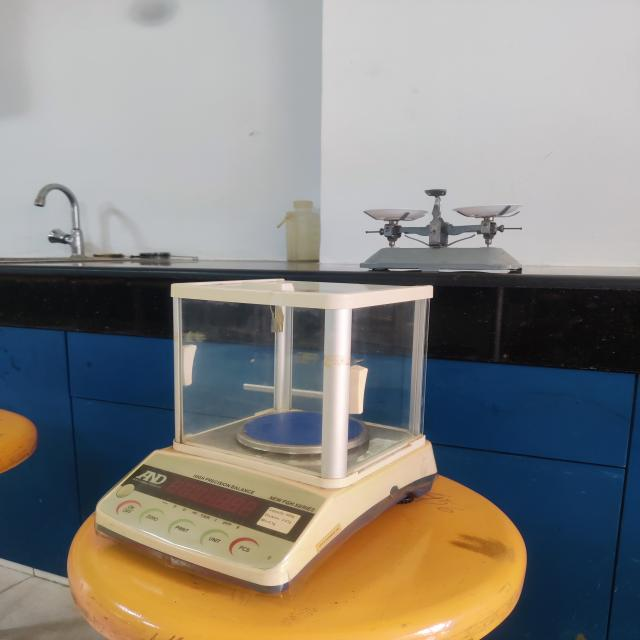Mechanical_Balance_Scale: (338, 165, 564, 295)
Precision_Weight_Scale: (65, 269, 454, 627)
